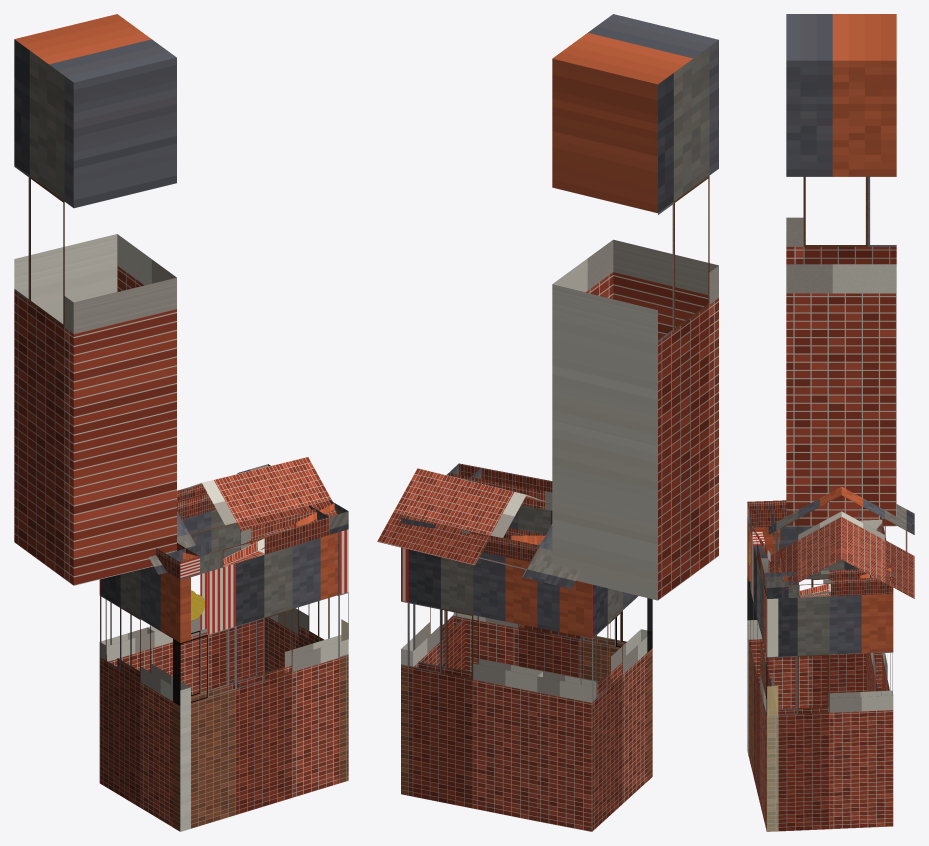
The picture shows the model from 3 angles, left to right: view 1: azimuth 30°, elevation 25°; view 2: azimuth 150°, elevation 25°; view 3: azimuth 270°, elevation 25°; orthographic projection. The views are drawn at different scales.
Parts seen in each view (by area): view 1: 1132023208__chimney_0_xb, 1132023208__wall_2_xb, 1132023208__wall_1_xb, 1132023208_roof_-1_xb, 1132023208__wall_4_xb, 1132023208__wall_3_xb, 1132023208__cornice_2, 1132023208__wall_0_xb, 1132023208__cornice_4, 1132023208__cornice_1, 1132023208__cornice_3; view 2: 1132023208__chimney_0_xb, 1132023208__wall_4_xb, 1132023208__wall_0_xb, 1132023208__wall_1_xb, 1132023208_roof_1_xb, 1132023208__wall_2_xb, 1132023208__wall_3_xb, 1132023208__cornice_2, 1132023208__cornice_4; view 3: 1132023208__chimney_0_xb, 1132023208__wall_3_xb, 1132023208__wall_2_xb, 1132023208__wall_1_xb, 1132023208_roof_1_xb, 1132023208_roof_-1_xb, 1132023208__cornice_3, 1132023208__cornice_2, 1132023208__cornice_1, 1132023208__wall_4_xb, 1132023208__wall_2_xf, 1132023208__wall_0_xb.
Part boxes in pixels (x1=…): 1132023208__chimney_0_xb: x1=14, y1=14, x2=176, y2=585; 1132023208__wall_2_xb: x1=173, y1=532, x2=348, y2=831; 1132023208__wall_1_xb: x1=99, y1=566, x2=190, y2=831; 1132023208_roof_-1_xb: x1=149, y1=457, x2=337, y2=574; 1132023208__wall_4_xb: x1=147, y1=509, x2=263, y2=695; 1132023208__wall_3_xb: x1=265, y1=529, x2=348, y2=783; 1132023208__cornice_2: x1=166, y1=503, x2=334, y2=580; 1132023208__wall_0_xb: x1=99, y1=599, x2=154, y2=671; 1132023208__cornice_4: x1=177, y1=464, x2=270, y2=519; 1132023208__cornice_1: x1=156, y1=543, x2=199, y2=579; 1132023208__cornice_3: x1=249, y1=464, x2=348, y2=534; 1132023208__chimney_0_xb: x1=552, y1=14, x2=718, y2=600; 1132023208__wall_4_xb: x1=401, y1=547, x2=542, y2=821; 1132023208__wall_0_xb: x1=537, y1=580, x2=597, y2=831; 1132023208__wall_1_xb: x1=580, y1=584, x2=647, y2=831; 1132023208_roof_1_xb: x1=377, y1=468, x2=580, y2=588; 1132023208__wall_2_xb: x1=453, y1=505, x2=652, y2=781; 1132023208__wall_3_xb: x1=401, y1=607, x2=465, y2=670; 1132023208__cornice_2: x1=449, y1=463, x2=552, y2=510; 1132023208__cornice_4: x1=401, y1=514, x2=545, y2=561; 1132023208__chimney_0_xb: x1=786, y1=14, x2=896, y2=526; 1132023208__wall_3_xb: x1=765, y1=591, x2=893, y2=831; 1132023208__wall_2_xb: x1=747, y1=531, x2=778, y2=831; 1132023208__wall_1_xb: x1=747, y1=519, x2=866, y2=755; 1132023208_roof_1_xb: x1=841, y1=487, x2=914, y2=598; 1132023208_roof_-1_xb: x1=768, y1=486, x2=841, y2=597; 1132023208__cornice_3: x1=764, y1=567, x2=893, y2=597; 1132023208__cornice_2: x1=747, y1=501, x2=788, y2=598; 1132023208__cornice_1: x1=747, y1=500, x2=786, y2=527; 1132023208__wall_4_xb: x1=870, y1=652, x2=893, y2=695; 1132023208__wall_2_xf: x1=747, y1=566, x2=777, y2=714; 1132023208__wall_0_xb: x1=866, y1=652, x2=882, y2=691.
Bounding box in the file's own units: 0.3847 × 1.05 × 0.2276.
1 material, 1 textured.
